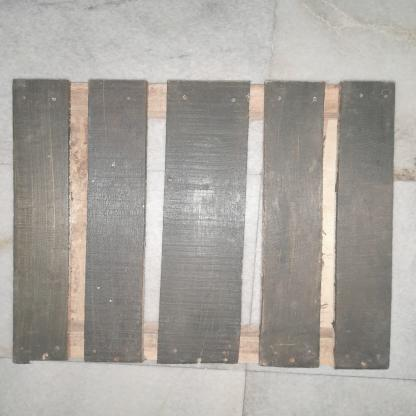Wooden-Pallet: (5, 76, 395, 372)
